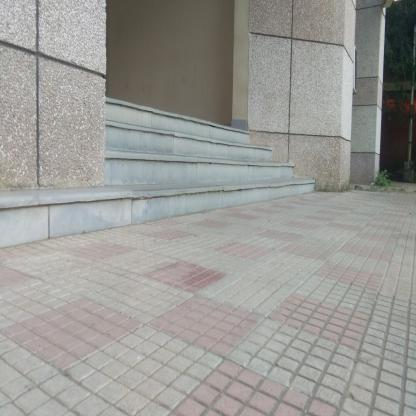stairs: (113, 121, 232, 229)
